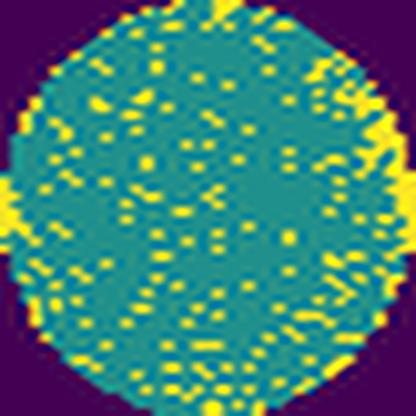Edge-Loc: (346, 106, 415, 259), (0, 171, 43, 249), (206, 0, 246, 34)
